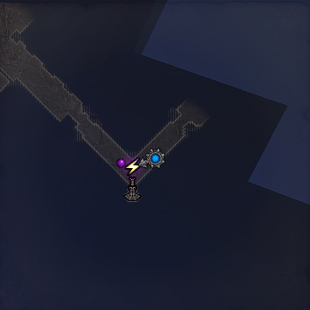ConduitPylon: (121, 157, 143, 202)
